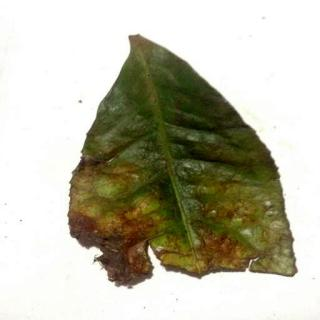Red Leaf Spot: (68, 36, 297, 282)
